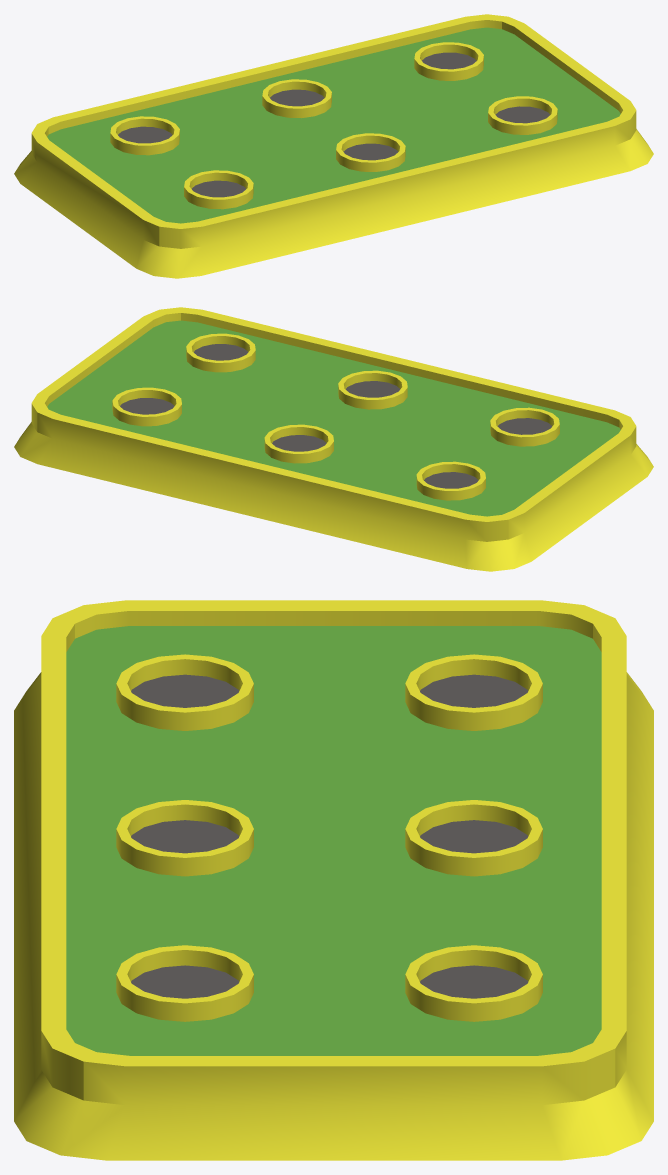
Rendered from Obstacle 27 V2.fbx.
The picture shows the model from 3 angles, top to bottom: view 1: azimuth 30°, elevation 25°; view 2: azimuth 150°, elevation 25°; view 3: azimuth 270°, elevation 25°; orthographic projection. The views are drawn at different scales.
Parts seen in each view (by area): view 1: 027 Part 1; view 2: 027 Part 1; view 3: 027 Part 1.
Part boxes in pixels (x1=…): 027 Part 1: x1=14, y1=14, x2=653, y2=278; 027 Part 1: x1=14, y1=307, x2=653, y2=571; 027 Part 1: x1=14, y1=600, x2=653, y2=1160.
Bounding box in the file's own units: 249 × 20.48 × 138.
Materials: 1 (1 with a texture image).
